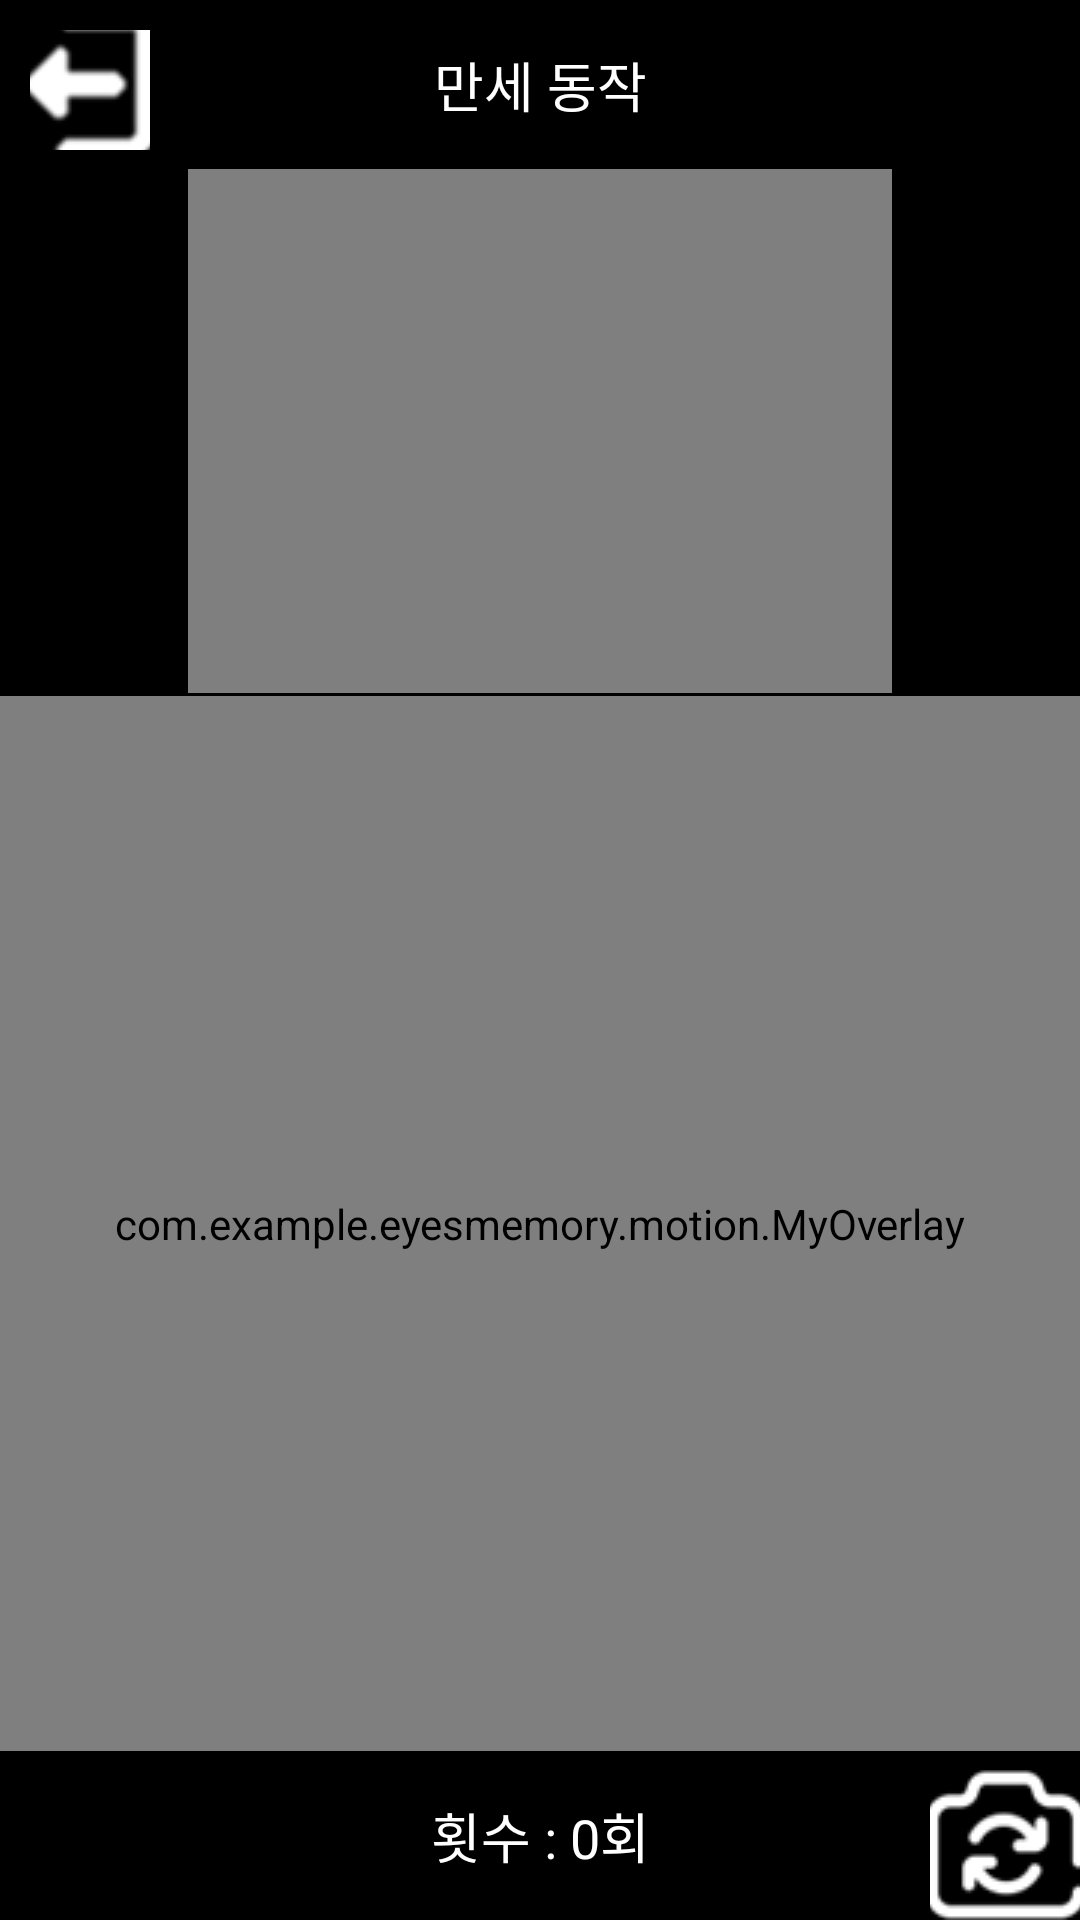

Icon bounding boxes for this 1080 × 1920 phone screenshot, format (x1, y1, x2, y2):
나가기 버튼: (30, 30, 150, 150)
카메라 전환 버튼: (930, 1770, 1080, 1920)
